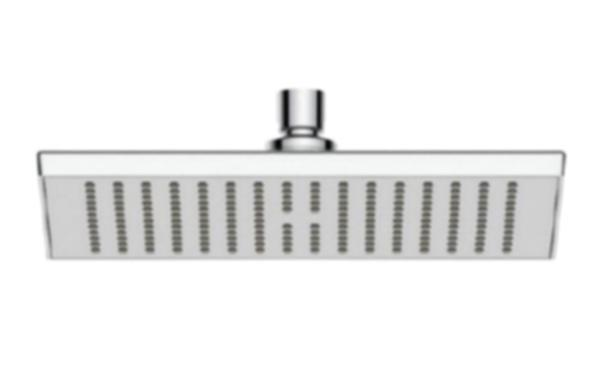Ducha: (29, 89, 572, 265)
